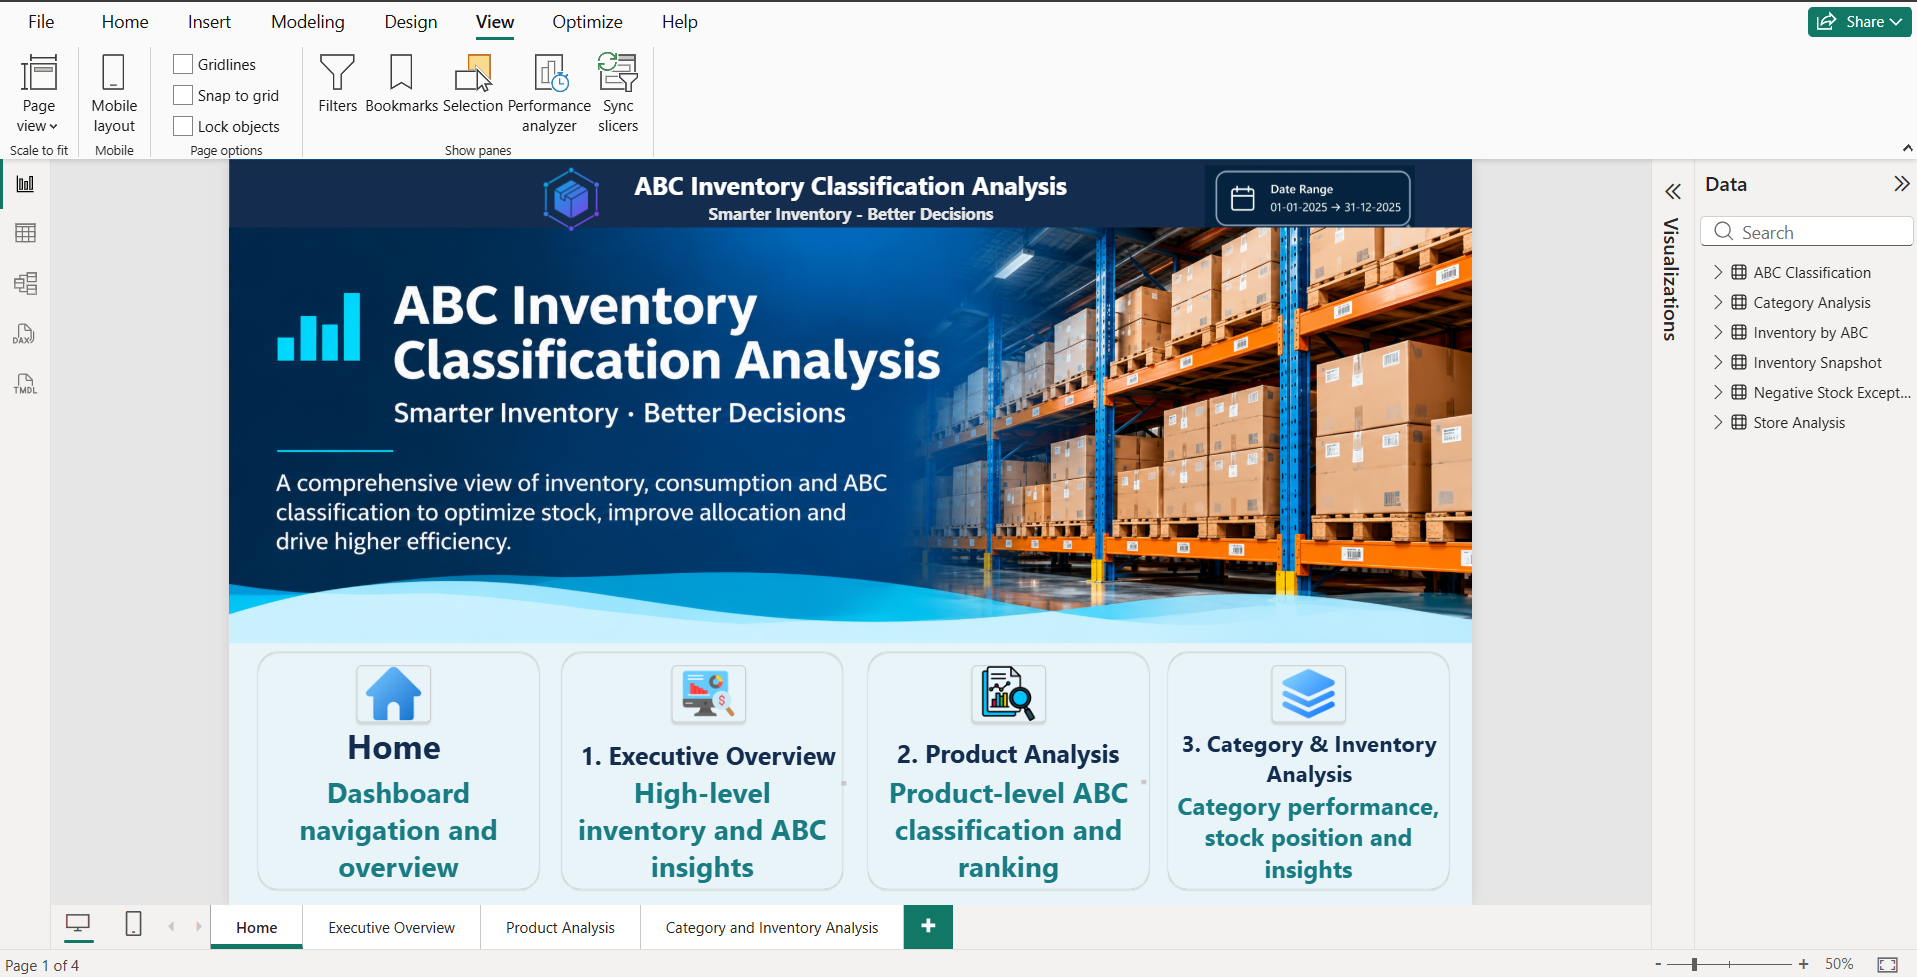

Layout of this report page (visuals, bound fields, positions):
{"tool":"powerbi","page":{"name":"Home","canvas":[2000,1200],"ordinal":0},"visuals":[{"type":"shape","title":"ABC INVENTORY CLASSIFICATION ANALYSIS","box":[0,0,2000.4,120.1],"z":0},{"type":"actionButton","box":[531.7,789,461,390.2],"z":1000},{"type":"textbox","title":"ABC Inventory Classification Analysis","box":[0,15,2000.4,105.1],"z":2000},{"type":"textbox","title":"1. Executive Overview","box":[548.9,930.5,443.8,77.2],"z":3000},{"type":"image","box":[1563.4,9.7,348.5,108.9],"z":4000},{"type":"actionButton","box":[42.9,789,461,390.2],"z":4000,"group":"g1"},{"type":"image","box":[711.8,814.8,120.1,92.2],"z":5000},{"type":"image","box":[0,100.8,2000.4,688.3],"z":6000},{"type":"textbox","title":"Home","box":[124.4,906.9,280.9,62.2],"z":7002,"group":"g1"},{"type":"group","id":"g1","title":"Group 1","box":[42.9,789,461,390.2],"z":8000},{"type":"image","box":[205.8,814.8,120.1,92.2],"z":9000},{"type":"actionButton","box":[1022.7,789,461,390.2],"z":10000},{"type":"textbox","title":"2. Product Analysis","box":[1031.3,928.4,443.8,77.2],"z":11000},{"type":"image","box":[1194.3,814.8,120.1,92.2],"z":12000},{"type":"actionButton","box":[1505.2,789,461,390.2],"z":12001},{"type":"image","box":[1676.7,814.8,120.1,92.2],"z":12002},{"type":"textbox","title":"3. Category & Inventory Analysis","box":[1515.9,915.5,443.8,109.3],"z":12003},{"type":"image","box":[480.3,15,140.1,101.9],"z":12004}]}

Visuals, with their boxes on the page's 2000x1200 design canvas (x1, y1, x2, y2). These are canvas units, not pixel positions in the 1917x977 screenshot, which may show the page scaled, cropped or inside an application window:
"ABC INVENTORY CLASSIFICATION ANALYSIS" shape: (0, 0, 2000, 120)
actionButton: (532, 789, 993, 1179)
"ABC Inventory Classification Analysis" textbox: (0, 15, 2000, 120)
"1. Executive Overview" textbox: (549, 930, 993, 1008)
image: (1563, 10, 1912, 119)
actionButton: (43, 789, 504, 1179)
image: (712, 815, 832, 907)
image: (0, 101, 2000, 789)
"Home" textbox: (124, 907, 405, 969)
"Group 1" group: (43, 789, 504, 1179)
image: (206, 815, 326, 907)
actionButton: (1023, 789, 1484, 1179)
"2. Product Analysis" textbox: (1031, 928, 1475, 1006)
image: (1194, 815, 1314, 907)
actionButton: (1505, 789, 1966, 1179)
image: (1677, 815, 1797, 907)
"3. Category & Inventory Analysis" textbox: (1516, 916, 1960, 1025)
image: (480, 15, 620, 117)
